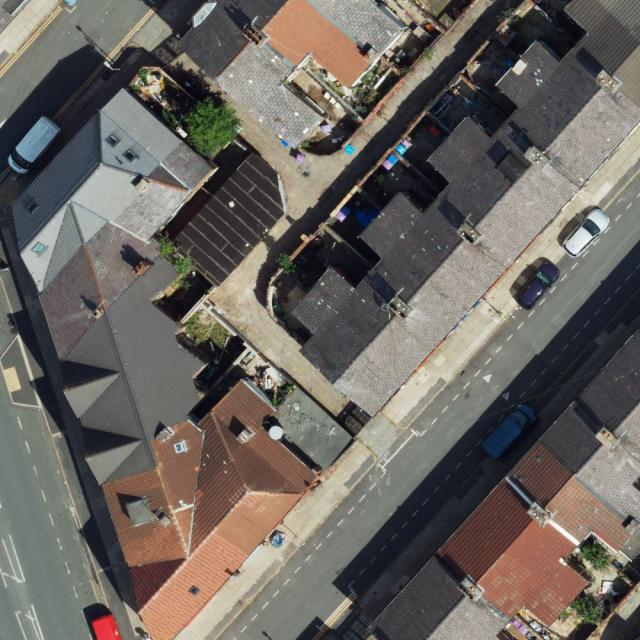roof: (11, 86, 323, 640), (291, 0, 640, 417), (368, 326, 640, 640), (176, 0, 409, 151)
skylight: (104, 133, 121, 147), (33, 242, 48, 256), (24, 200, 38, 214), (124, 148, 137, 162), (173, 442, 185, 454), (188, 585, 201, 595)
